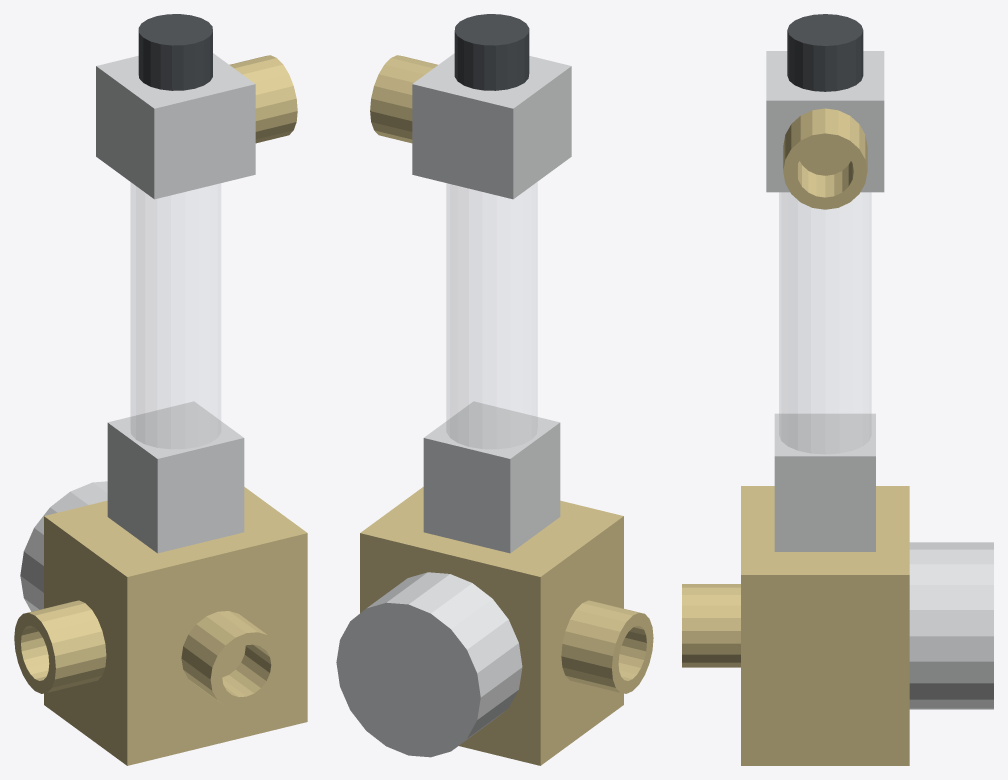
The model's file is gas-regulator.glb.
3 renders of one model, left to right at view 1: azimuth 30°, elevation 25°; view 2: azimuth 150°, elevation 25°; view 3: azimuth 270°, elevation 25°, orthographic.
Visible parts, largest first — view 1: body, port-1, port-g, knob, port-2; view 2: body, port-g, knob, port-2; view 3: body, port-2, knob, port-1.
Boxes of the visible parts, box(x1,y1,x2,y2) form: body: box(20, 53, 307, 765); port-1: box(181, 611, 282, 709); port-g: box(14, 600, 106, 693); knob: box(138, 14, 212, 90); port-2: box(229, 55, 297, 143); body: box(336, 53, 623, 765); port-g: box(561, 600, 653, 693); knob: box(454, 14, 529, 90); port-2: box(370, 55, 437, 143); body: box(741, 51, 993, 765); port-2: box(783, 108, 867, 209); knob: box(787, 14, 863, 91); port-1: box(682, 584, 740, 667).
Size of what is drawn, in the model's own units: 0.067 by 0.181 by 0.074.
